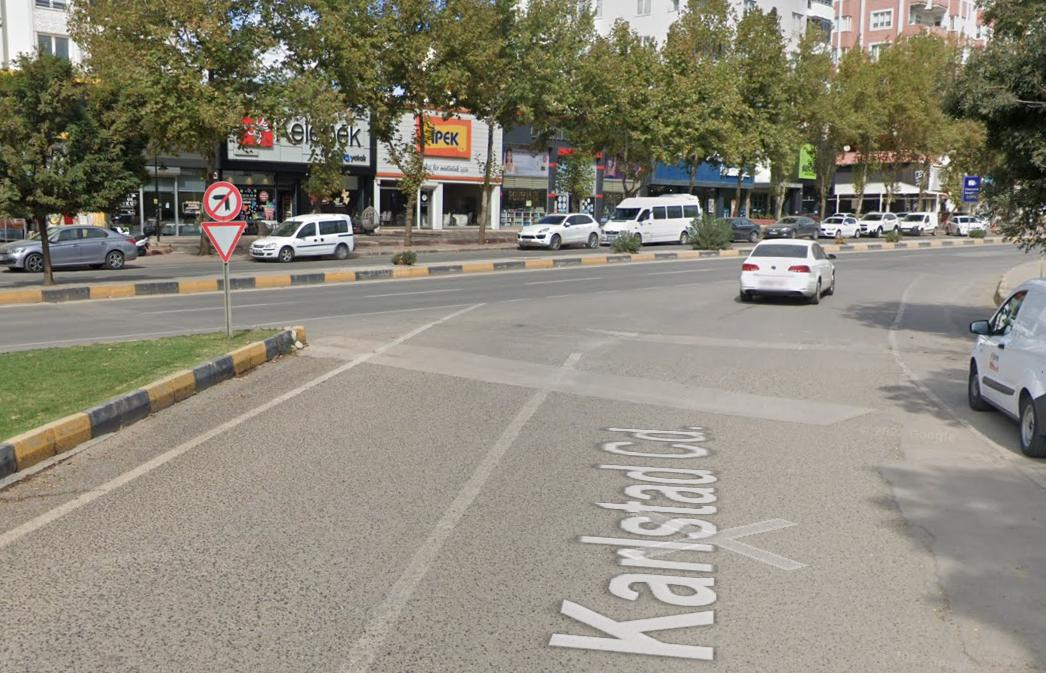leftturnsareforbidden: (206, 185, 240, 219)
